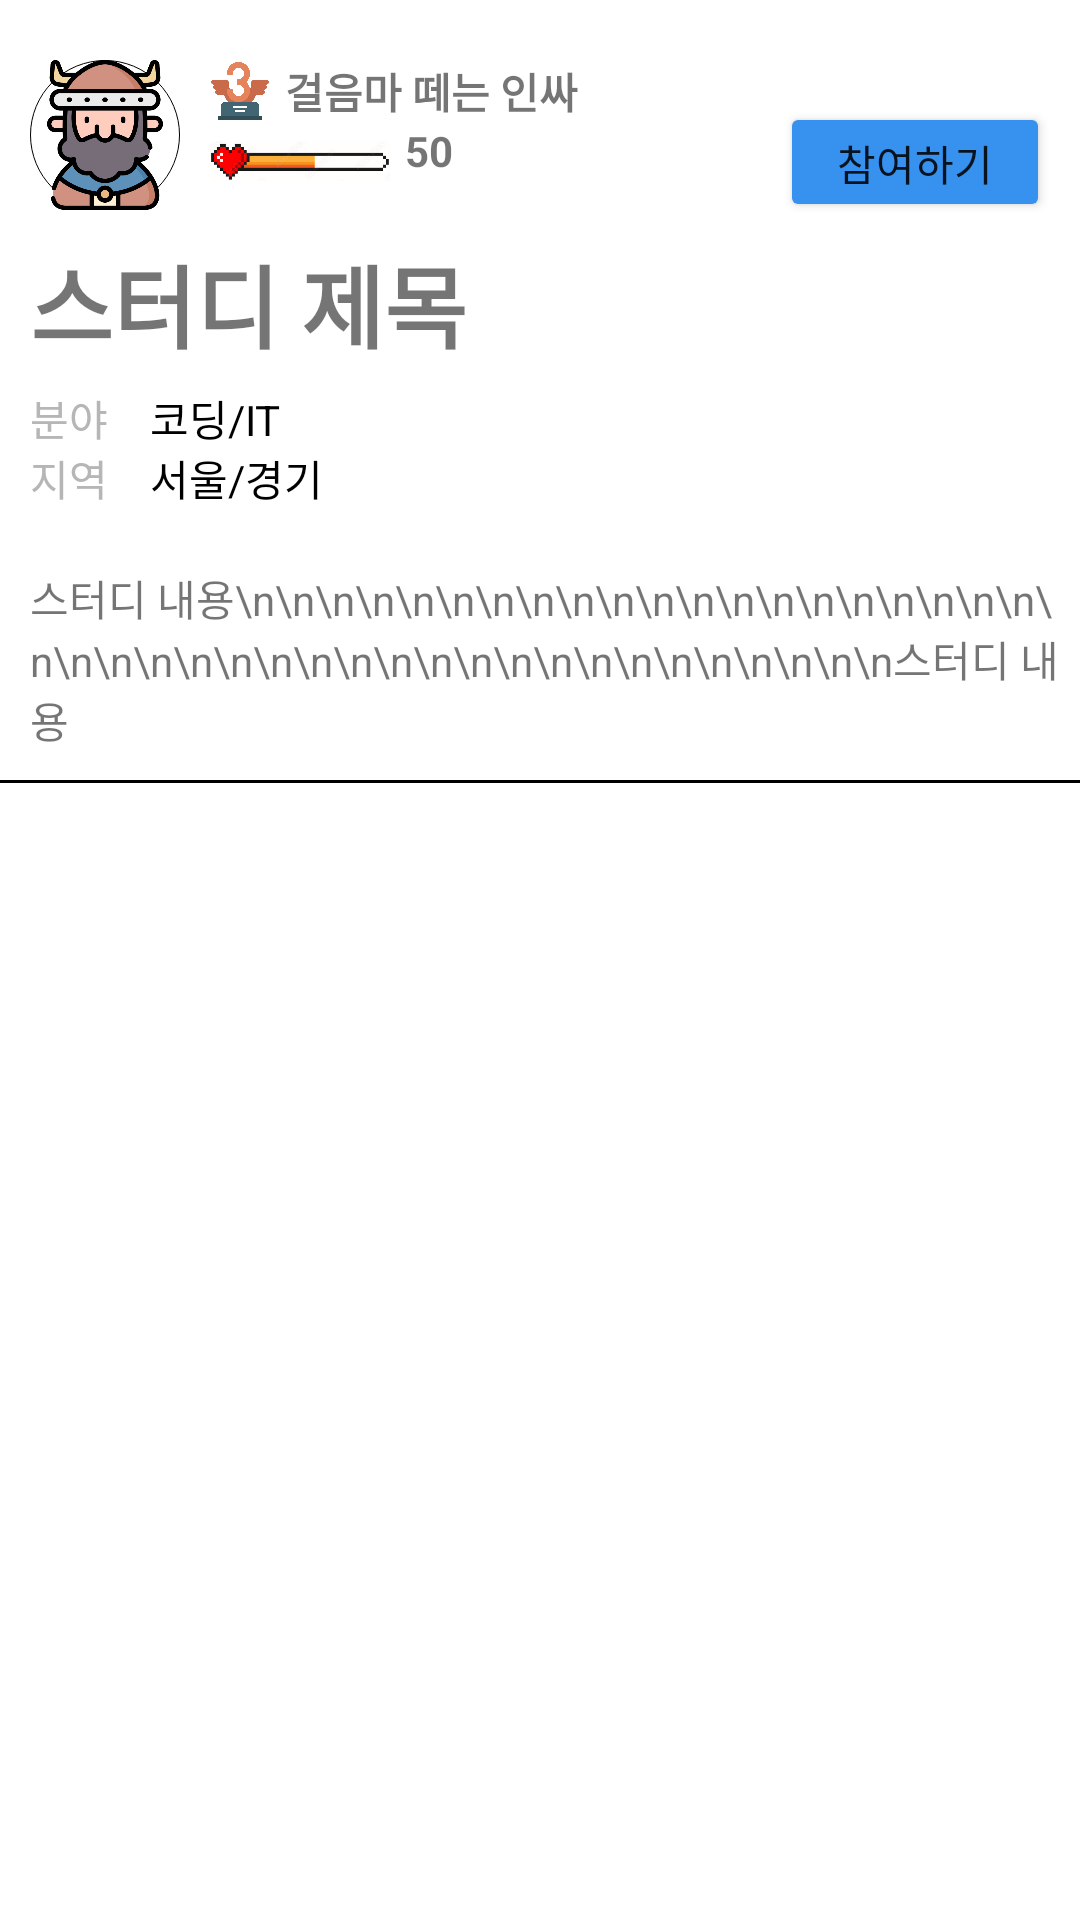

Icons on this 1080px x 1920px Android screen, each with its box as (x1, y1, x2, y2):
heartbar: (211, 144, 389, 180)
profilepic: (30, 60, 180, 210)
thirdtrophy: (211, 62, 269, 120)
